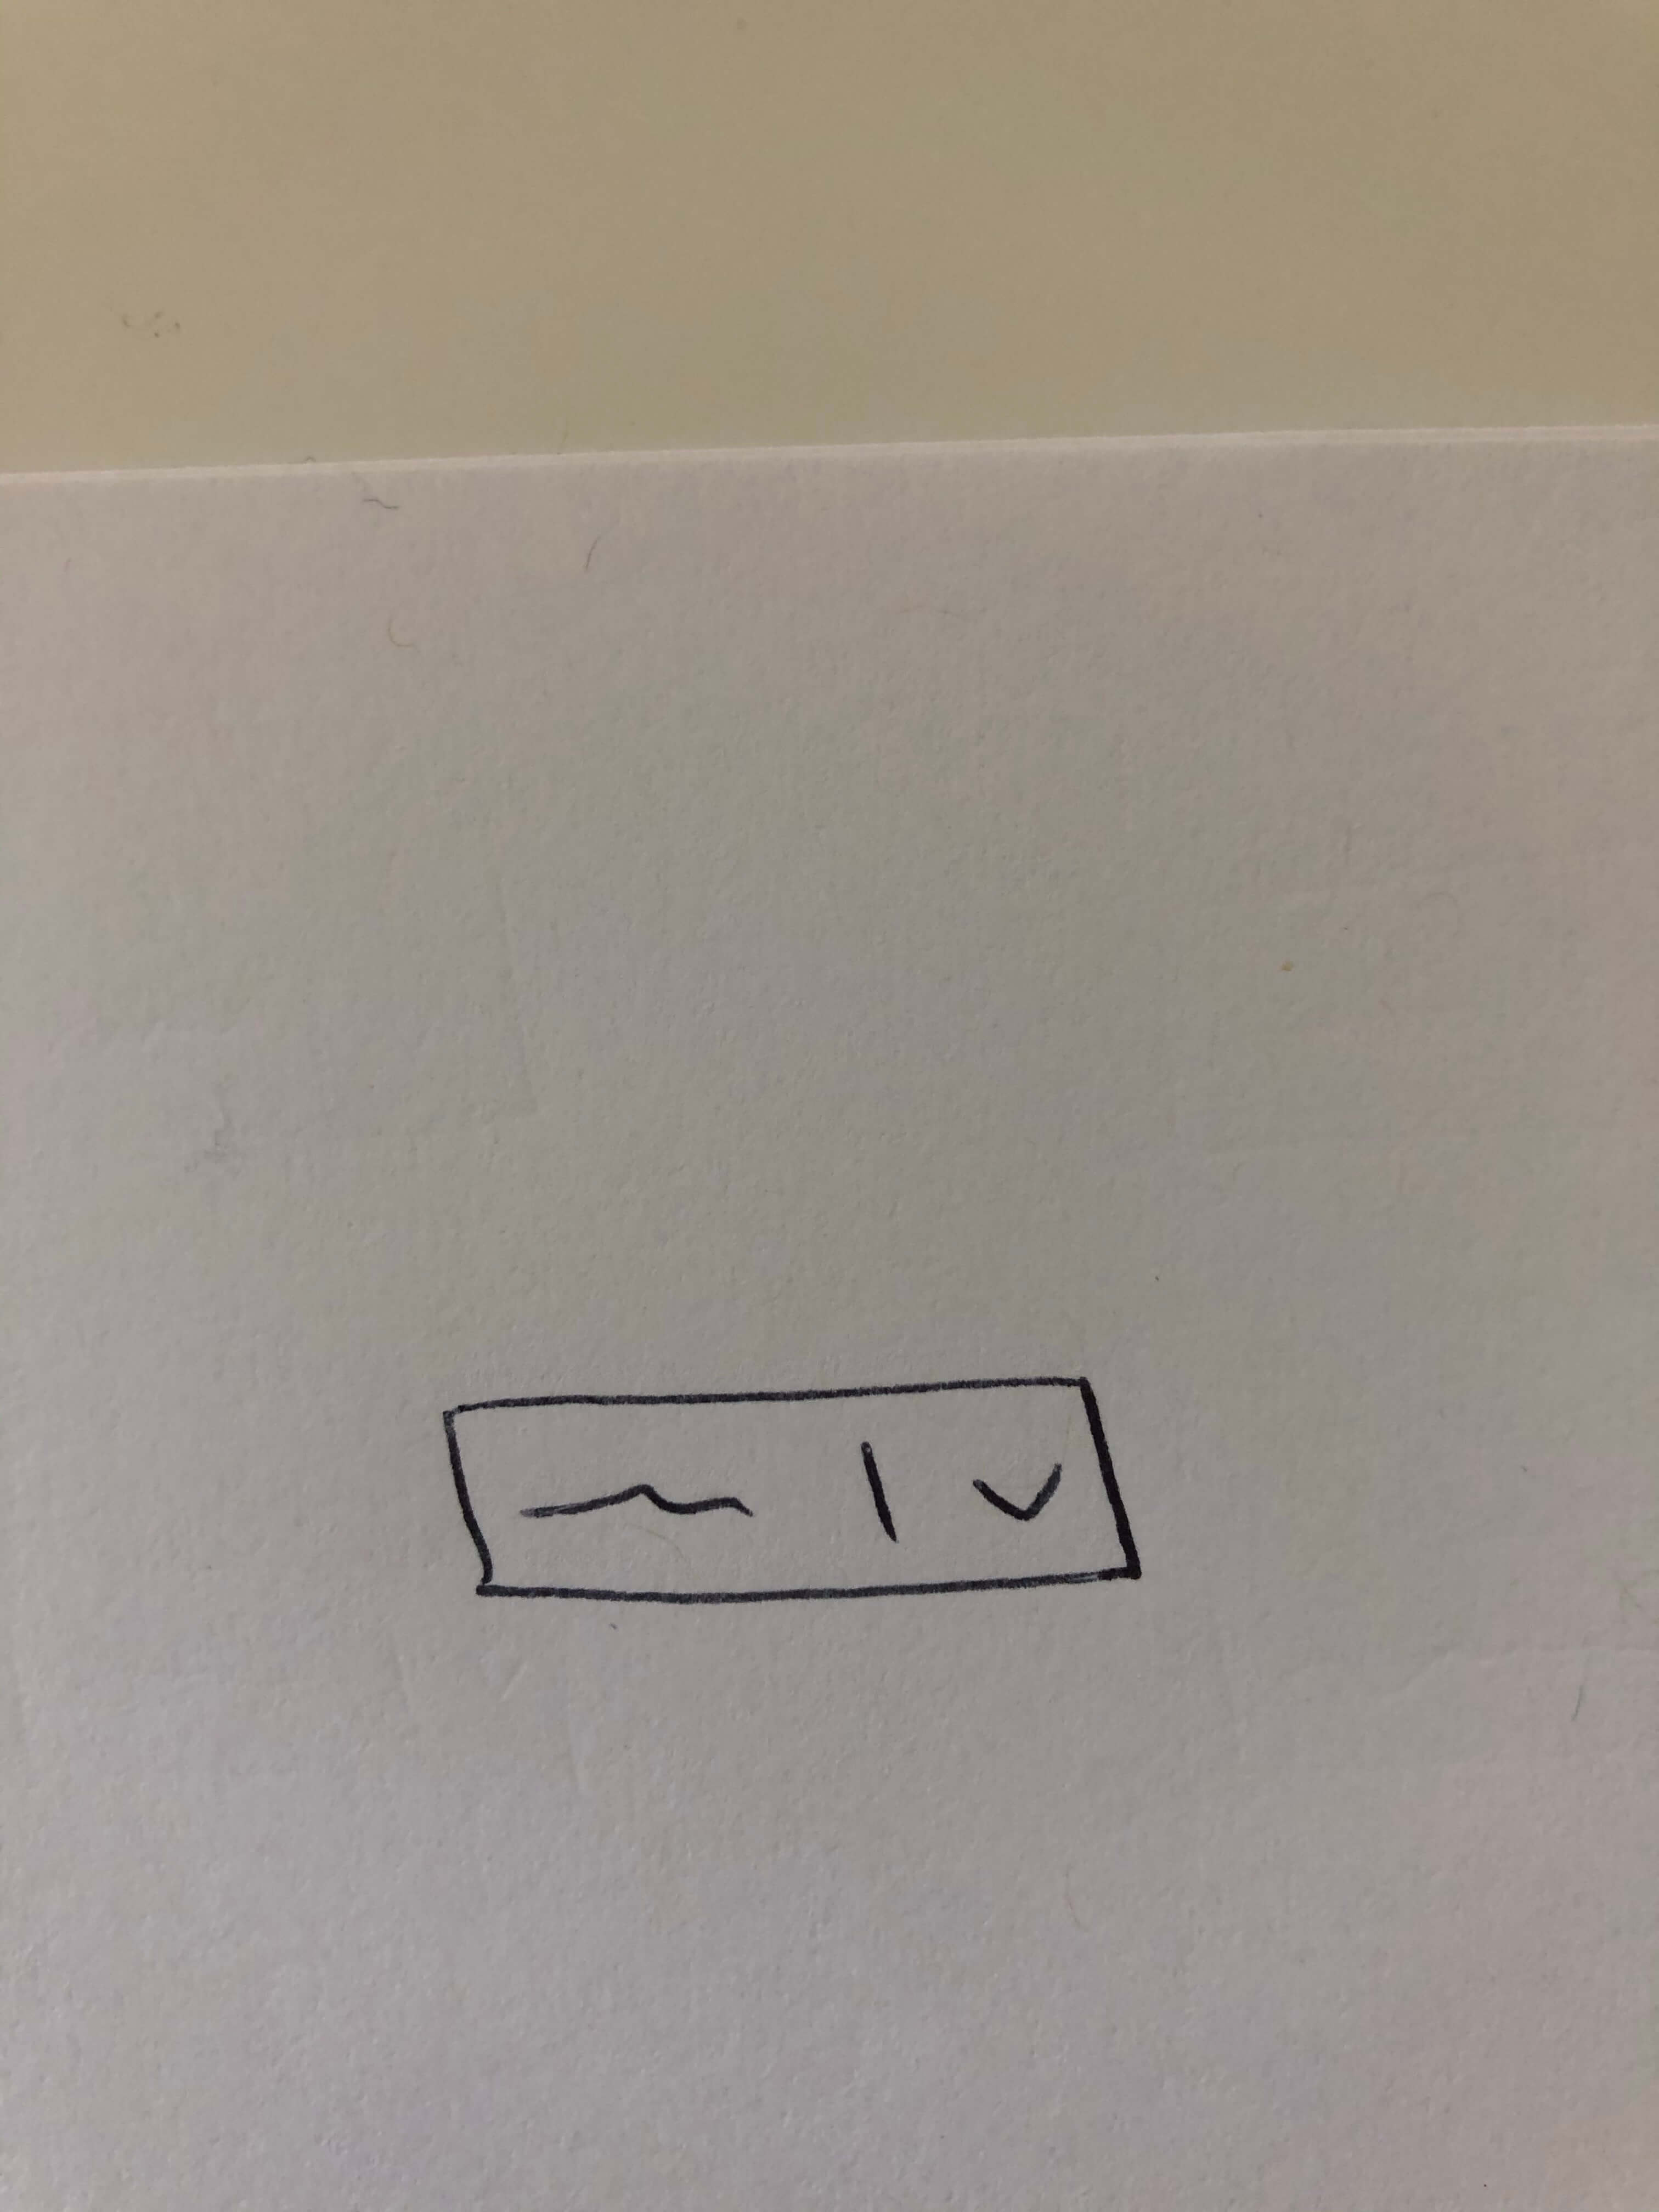split-button: (420, 1341, 1159, 1653)
